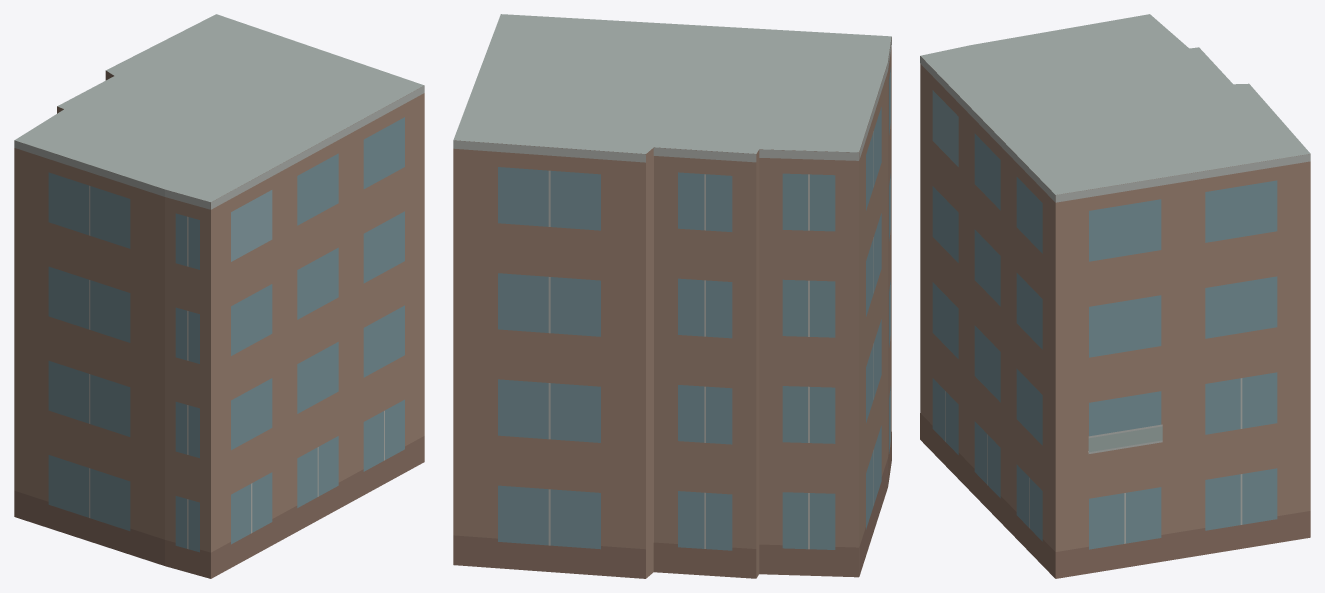
Rendered from survey-upis-32661152.glb.
3 renders of one model, left to right at view 1: azimuth 30°, elevation 25°; view 2: azimuth 150°, elevation 25°; view 3: azimuth 270°, elevation 25°, orthographic. The views are drawn at different scales.
Visible parts, largest first — view 1: survey-upis-32661152.tmp; view 2: survey-upis-32661152.tmp; view 3: survey-upis-32661152.tmp.
Part boxes in pixels (bbox=[...]): survey-upis-32661152.tmp: bbox=[14, 14, 424, 578]; survey-upis-32661152.tmp: bbox=[453, 14, 891, 578]; survey-upis-32661152.tmp: bbox=[920, 14, 1310, 578].
Bounding box in the file's own units: 12.35 × 12.2 × 11.26.
